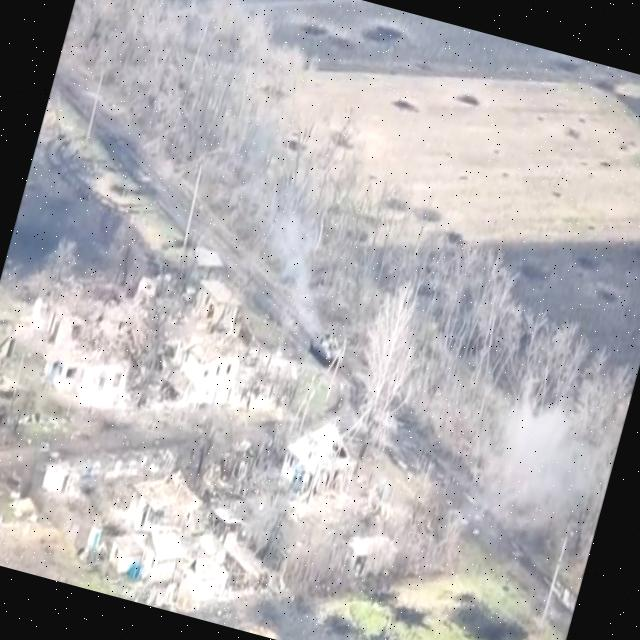MBT: (303, 323, 354, 376)
